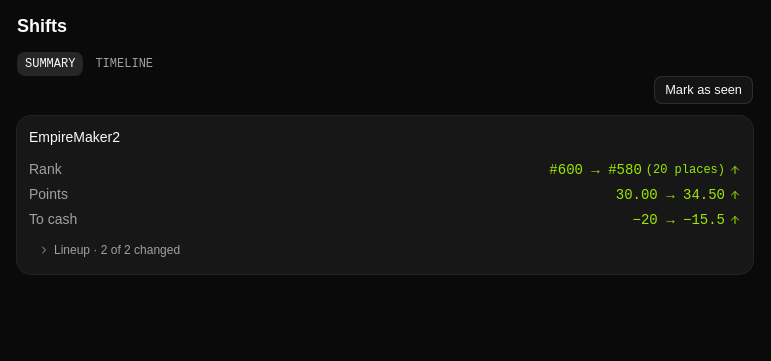
Test case: the lineup diff on a VIP card › tags a reveal "Revealed" and shows its points as — → points
Expected: the heading "Shifts" is shown, [17,16,67,36]
Click the button "Lineup · 2 of 2 changed" at (77, 250), box [29,238,741,262]
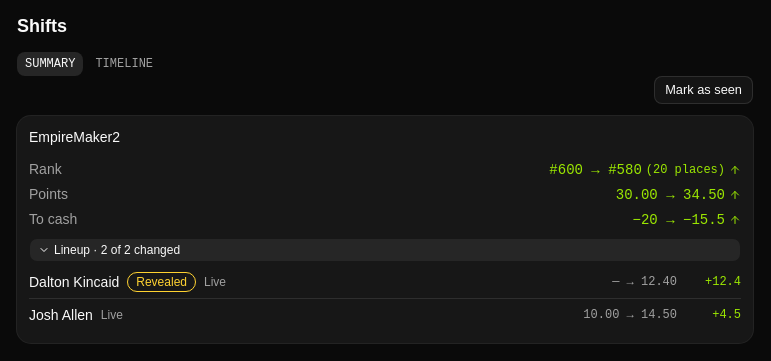
Expected: the text "Revealed" is shown, [127,272,196,292]
Expected: the text "— → 12.40" is shown, [612,274,677,290]
Expected: the text "Live" next to "Revealed" is shown, [204,275,226,289]
